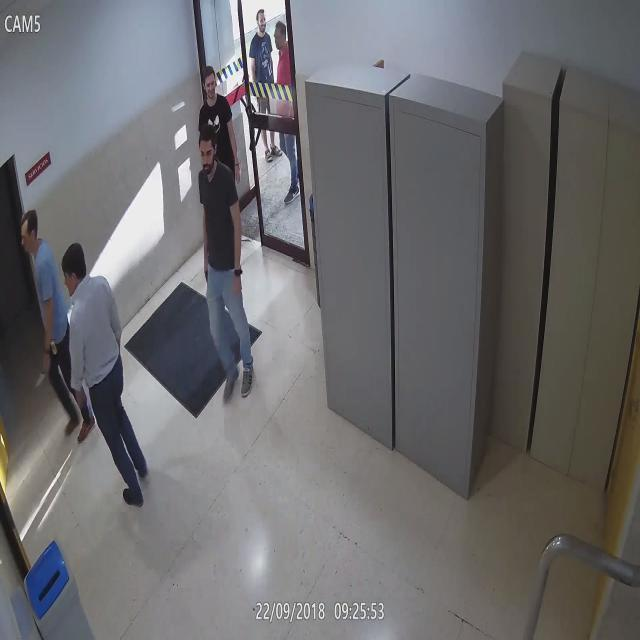weapon: (202, 270, 210, 284)
